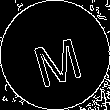M_N: (26, 24, 84, 86)
